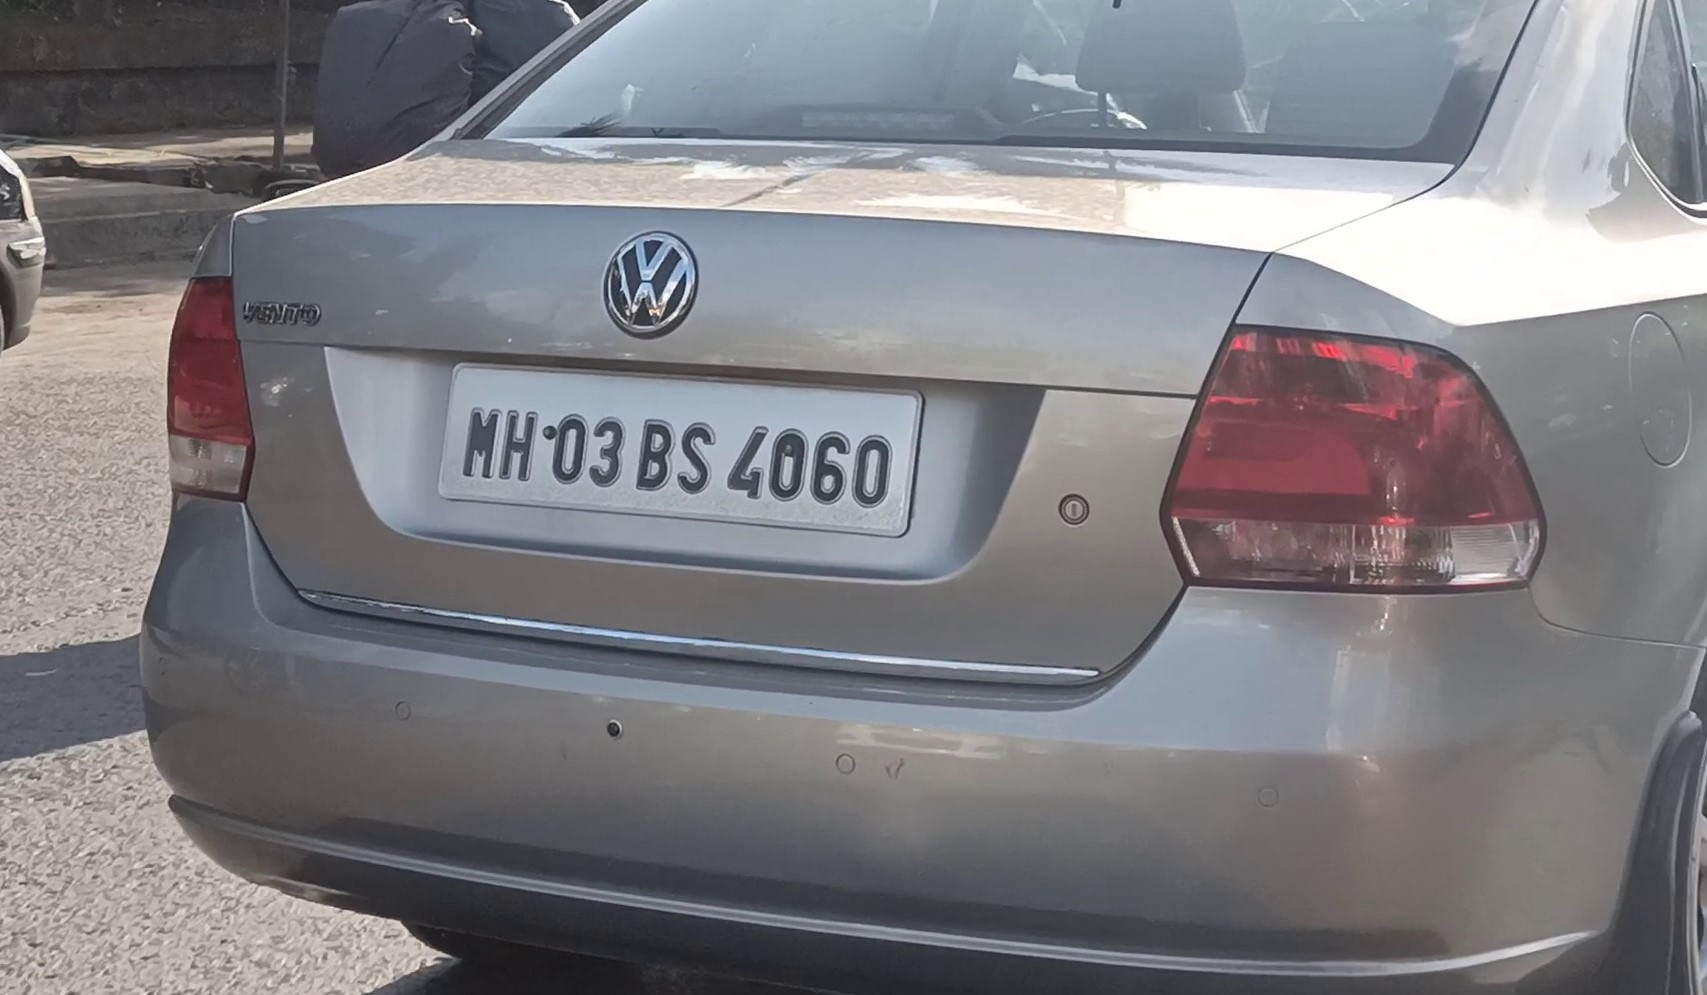MH03BS4060: (438, 360, 926, 540)
